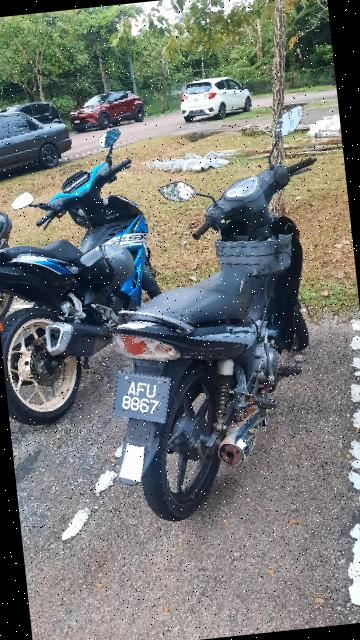License_Plate: (100, 367, 180, 439)
motorcycle: (69, 99, 360, 532), (1, 110, 183, 437)
